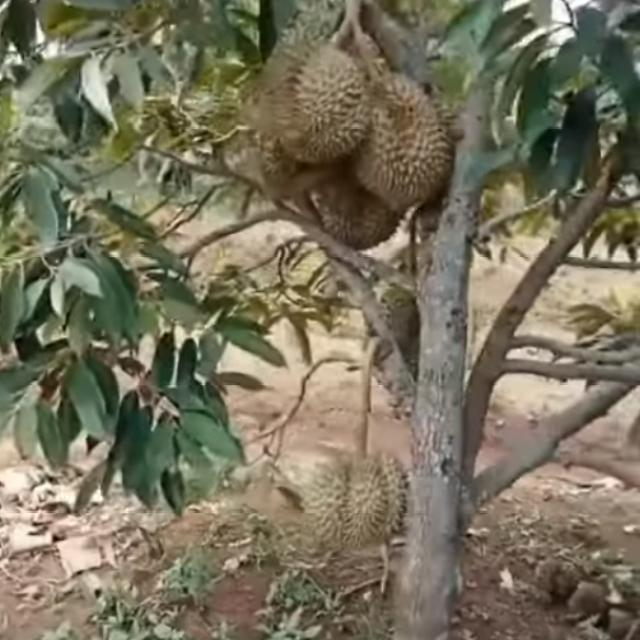mature: (347, 76, 457, 206), (297, 446, 411, 566), (275, 42, 368, 163)
